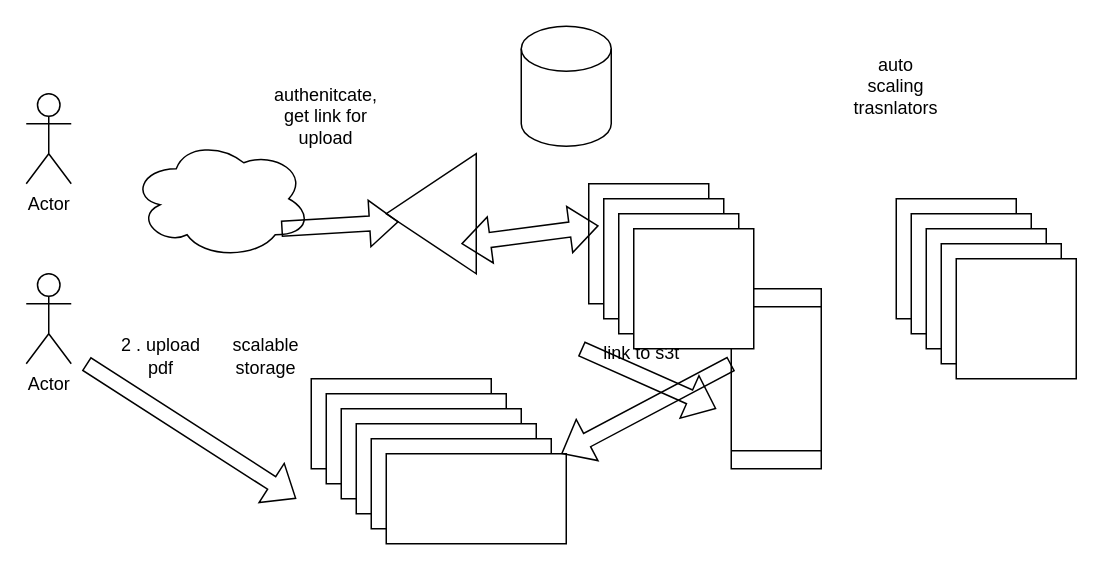
This 1103x570 diagram has some shape labels left out. Here are the shapes that lost their labels. From the top down, the box of each, then its label:
(730, 287, 821, 469): queue
(385, 452, 566, 544): s3
